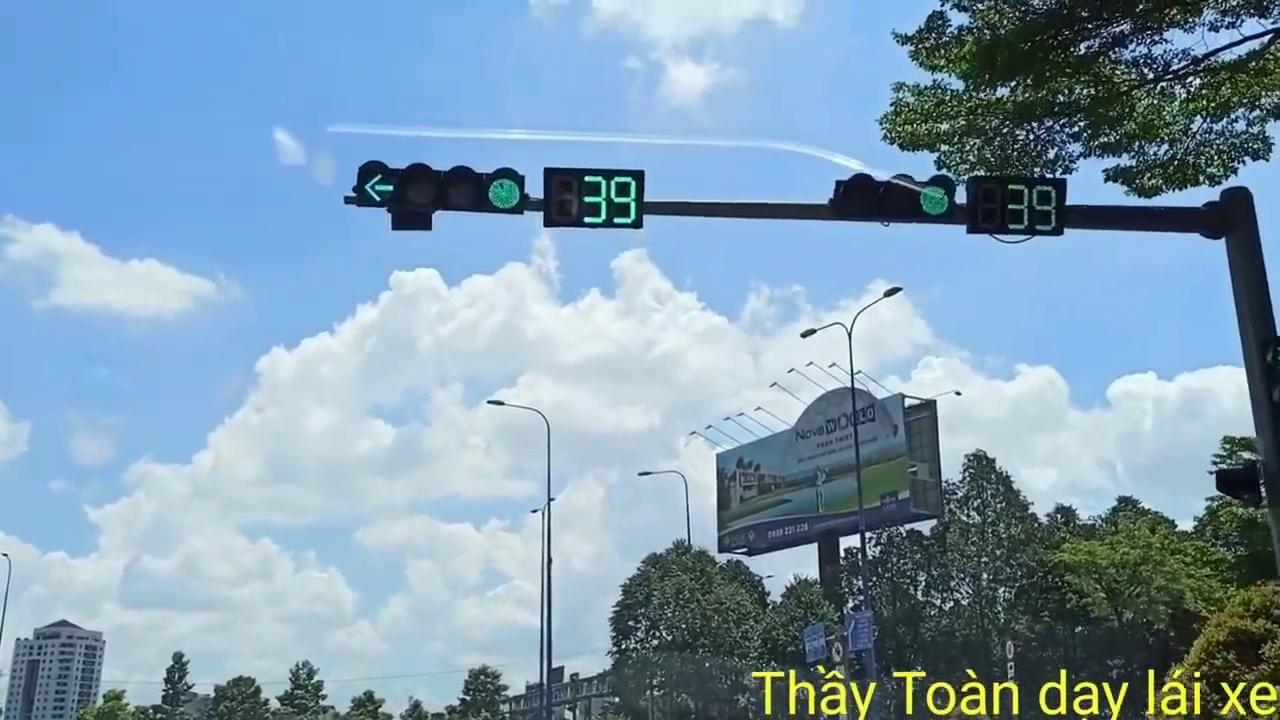Chỉ hướng đường: (843, 608, 874, 650)
Cấm xe máy: (829, 640, 846, 664)
Làn đường cho từng xe: (802, 620, 828, 662)
